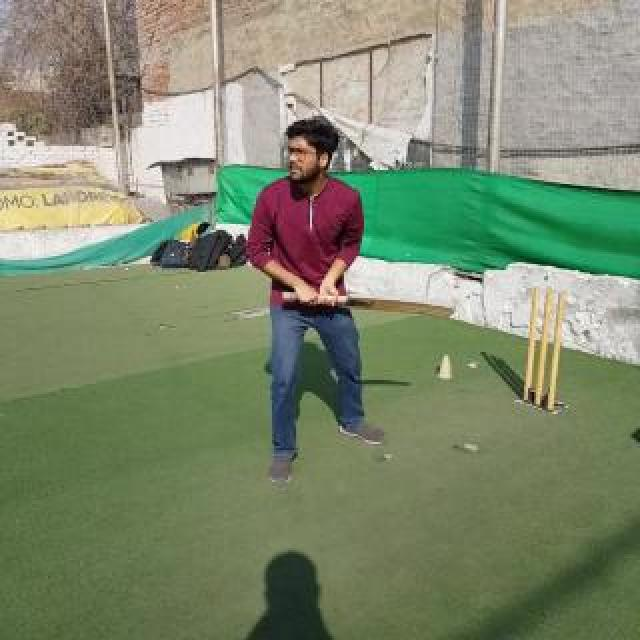bat: (282, 292, 458, 320)
